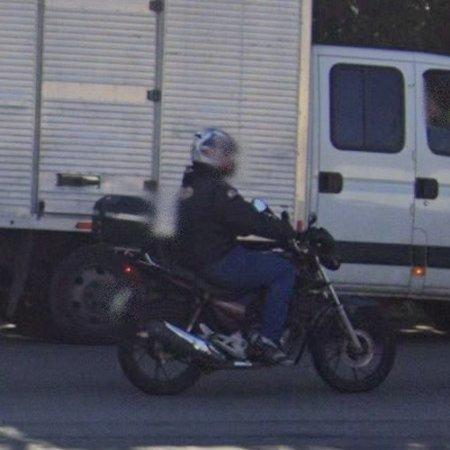motorcycles: (239, 217, 398, 393), (119, 253, 262, 396)
